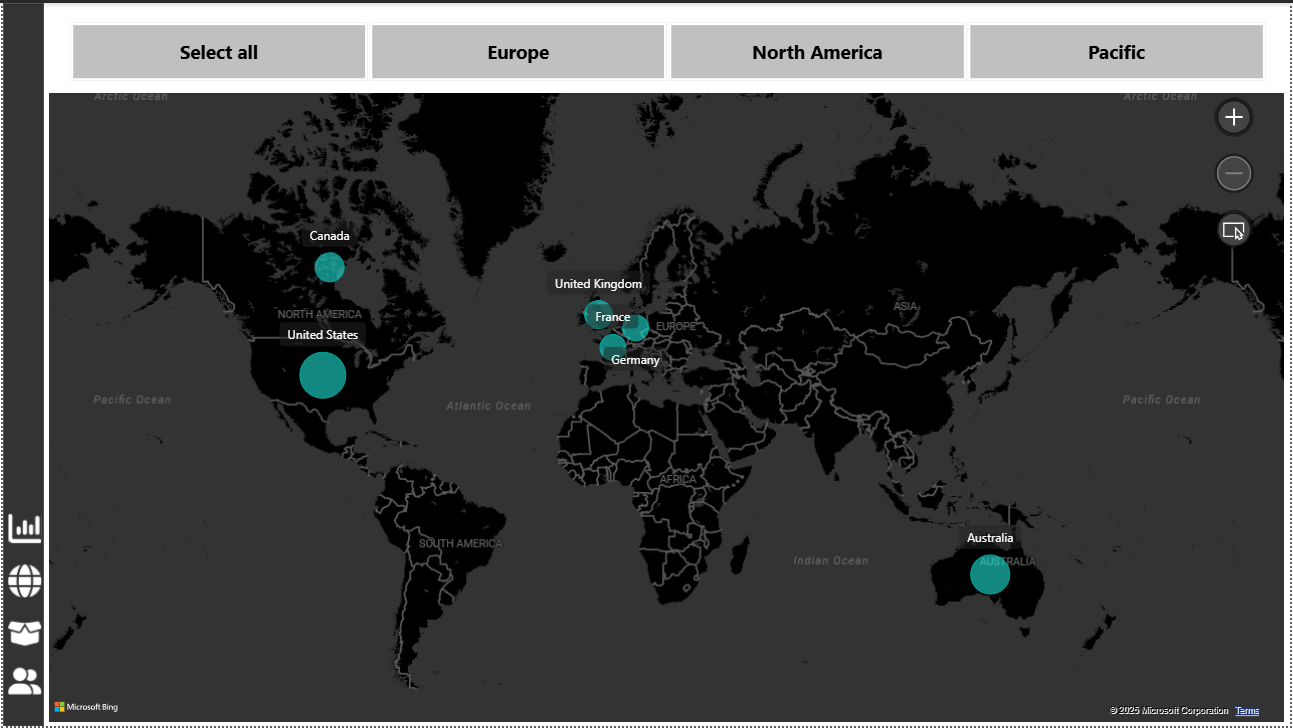

The dashboard page shown, as its layout file describes it:
{"tool":"powerbi","page":{"name":"Map","canvas":[1280,720],"ordinal":1},"visuals":[{"type":"shape","box":[0,0,41.1,720.3],"z":0},{"type":"map","fields":{"Category":["Territory Lookup.Country"],"Size":["Measure Table.Total Orders"]},"box":[41.1,84.6,1239,635.7],"z":1000},{"type":"slicer","fields":{"Values":["Territory Lookup.Continent"]},"box":[41.1,12.4,1239,72.1],"z":2000},{"type":"actionButton","box":[1.2,500.1,41.1,46],"z":3000},{"type":"actionButton","box":[0.9,552.1,41.1,46],"z":4000},{"type":"actionButton","box":[0.9,604.1,41.1,46],"z":5000},{"type":"actionButton","box":[0.9,651.8,41.1,46],"z":6000}]}

Visuals, with their boxes in screenshot pixels (x1, y1, x2, y2):
shape: (x1=0, y1=3, x2=41, y2=721)
map - Territory Lookup.Country x Measure Table.Total Orders: (x1=41, y1=88, x2=1275, y2=721)
slicer - Territory Lookup.Continent: (x1=41, y1=16, x2=1275, y2=88)
actionButton: (x1=1, y1=502, x2=42, y2=547)
actionButton: (x1=1, y1=553, x2=42, y2=599)
actionButton: (x1=1, y1=605, x2=42, y2=651)
actionButton: (x1=1, y1=653, x2=42, y2=699)
